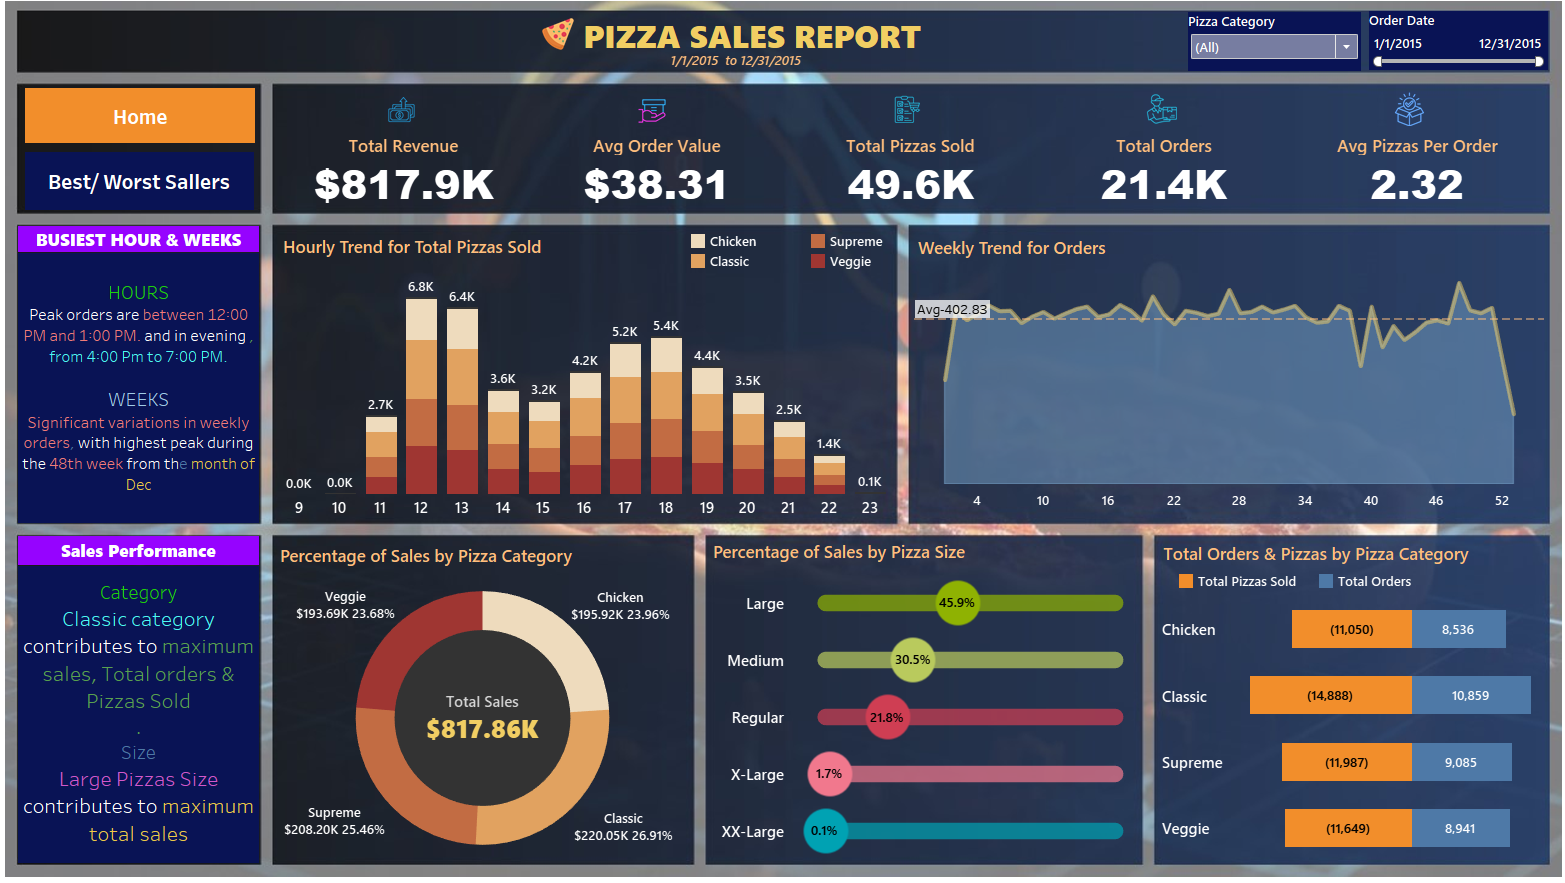

The page's visual inventory and layout, read from the dashboard file:
{"tool":"tableau","page":{"name":"Home","canvas":[1600,900],"ordinal":1},"visuals":[{"type":"image","param":"C:/Users/milad/Desktop/tableau_project/Pizza Tableau 1.jpg","box":[8,8,1584,884]},{"type":"text","box":[596,22,345,47]},{"type":"filter","title":"Hourly Trend for Total Pizzas Sold","param":"[federated.0q091sp1t35awo1501sk10c4yr4u].[none:order_date:qk]","box":[1385,22,179,59]},{"type":"filter","title":"Hourly Trend for Total Pizzas Sold","param":"[federated.0q091sp1t35awo1501sk10c4yr4u].[none:pizza_category:nk]","box":[1204,23,173,59]},{"type":"image","param":"C:/Users/milad/Desktop/tableau_project/Pizza Sales Images/pizza-slice.png","box":[555,28,37,33]},{"type":"worksheet","title":"Data Range","mark":"Automatic","box":[677,62,149,17]},{"type":"dashboard-object","box":[41,99,230,55]},{"type":"image","param":"C:/Users/milad/Desktop/tableau_project/Pizza Sales Images/order (1).png","box":[1404,103,42,34]},{"type":"image","param":"C:/Users/milad/Desktop/tableau_project/Pizza Sales Images/delivery-man.png","box":[1158,104,39,31]},{"type":"image","param":"C:/Users/milad/Desktop/tableau_project/Pizza Sales Images/profit-growth.png","box":[398,105,39,30]},{"type":"image","param":"C:/Users/milad/Desktop/tableau_project/Pizza Sales Images/shipping-box.png","box":[649,106,37,31]},{"type":"image","param":"C:/Users/milad/Desktop/tableau_project/Pizza Sales Images/order-delivery.png","box":[904,106,39,28]},{"type":"worksheet","title":"KPI Banner","mark":"Automatic","box":[293,146,1267,75]},{"type":"dashboard-object","box":[41,163,229,58]},{"type":"text","box":[34,237,241,26]},{"type":"worksheet","title":"Hourly Trend for Total Pizzas Sold","mark":"Bar","rows":["Calculation_540432018466385923","Calculation_540432018466385923"],"cols":["order_time"],"box":[295,242,612,287]},{"type":"legend","title":"Hourly Trend for Total Pizzas Sold","param":"[federated.0q091sp1t35awo1501sk10c4yr4u].[none:pizza_category:nk]","box":[664,242,243,47]},{"type":"worksheet","title":"Weekly Trend for Orders","mark":"Area","rows":["Calculation_540432018465796097","Calculation_540432018465796097"],"cols":["order_date"],"box":[930,243,630,284]},{"type":"text","box":[34,264,241,270]},{"type":"text","box":[34,547,241,29]},{"type":"worksheet","title":"Percentage of Sales by Pizza Size","mark":"Line","rows":["pizza_size"],"box":[725,547,429,323]},{"type":"text","box":[1176,549,312,30]},{"type":"worksheet","title":"Percentage of Sales by Pizza Category","mark":"Pie","rows":["Calculation_540432018504503306","Calculation_540432018504527884"],"box":[292,551,413,318]},{"type":"text","box":[34,577,241,297]},{"type":"legend","title":" Total Pizzas Sold by Pizza Category","param":"[federated.0q091sp1t35awo1501sk10c4yr4u].[:Measure Names]","box":[1192,582,327,34]},{"type":"worksheet","title":" Total Pizzas Sold by Pizza Category","mark":"Automatic","rows":["pizza_category"],"box":[1172,607,389,265]}]}

Visuals, with their boxes in screenshot pixels (x1, y1, x2, y2), scaled from the page's 1600x900 canvas onto the 1565x883 screenshot:
image: <region>8, 8, 1557, 875</region>
text: <region>583, 22, 920, 68</region>
"Hourly Trend for Total Pizzas Sold" filter: <region>1355, 22, 1530, 79</region>
"Hourly Trend for Total Pizzas Sold" filter: <region>1178, 23, 1347, 80</region>
image: <region>543, 27, 579, 60</region>
"Data Range" worksheet: <region>662, 61, 808, 78</region>
dashboard-object: <region>40, 97, 265, 151</region>
image: <region>1373, 101, 1414, 134</region>
image: <region>1133, 102, 1171, 132</region>
image: <region>389, 103, 427, 132</region>
image: <region>635, 104, 671, 134</region>
image: <region>884, 104, 922, 131</region>
"KPI Banner" worksheet: <region>287, 143, 1526, 217</region>
dashboard-object: <region>40, 160, 264, 217</region>
text: <region>33, 233, 269, 258</region>
"Hourly Trend for Total Pizzas Sold" worksheet (Bar marks): <region>289, 237, 887, 519</region>
"Hourly Trend for Total Pizzas Sold" legend: <region>649, 237, 887, 284</region>
"Weekly Trend for Orders" worksheet (Area marks): <region>910, 238, 1526, 517</region>
text: <region>33, 259, 269, 524</region>
text: <region>33, 537, 269, 565</region>
"Percentage of Sales by Pizza Size" worksheet (Line marks): <region>709, 537, 1129, 854</region>
text: <region>1150, 539, 1455, 568</region>
"Percentage of Sales by Pizza Category" worksheet (Pie marks): <region>286, 541, 690, 853</region>
text: <region>33, 566, 269, 857</region>
" Total Pizzas Sold by Pizza Category" legend: <region>1166, 571, 1486, 604</region>
" Total Pizzas Sold by Pizza Category" worksheet: <region>1146, 596, 1527, 856</region>
